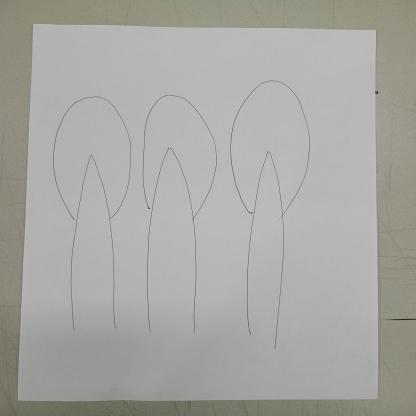branch_sharp: (70, 152, 116, 206), (152, 146, 194, 200), (250, 148, 290, 204)
crown_mushroom: (228, 76, 313, 217), (46, 94, 136, 218), (141, 91, 221, 215)
trunk_straight: (142, 216, 206, 314), (65, 222, 121, 314), (242, 219, 289, 317)
